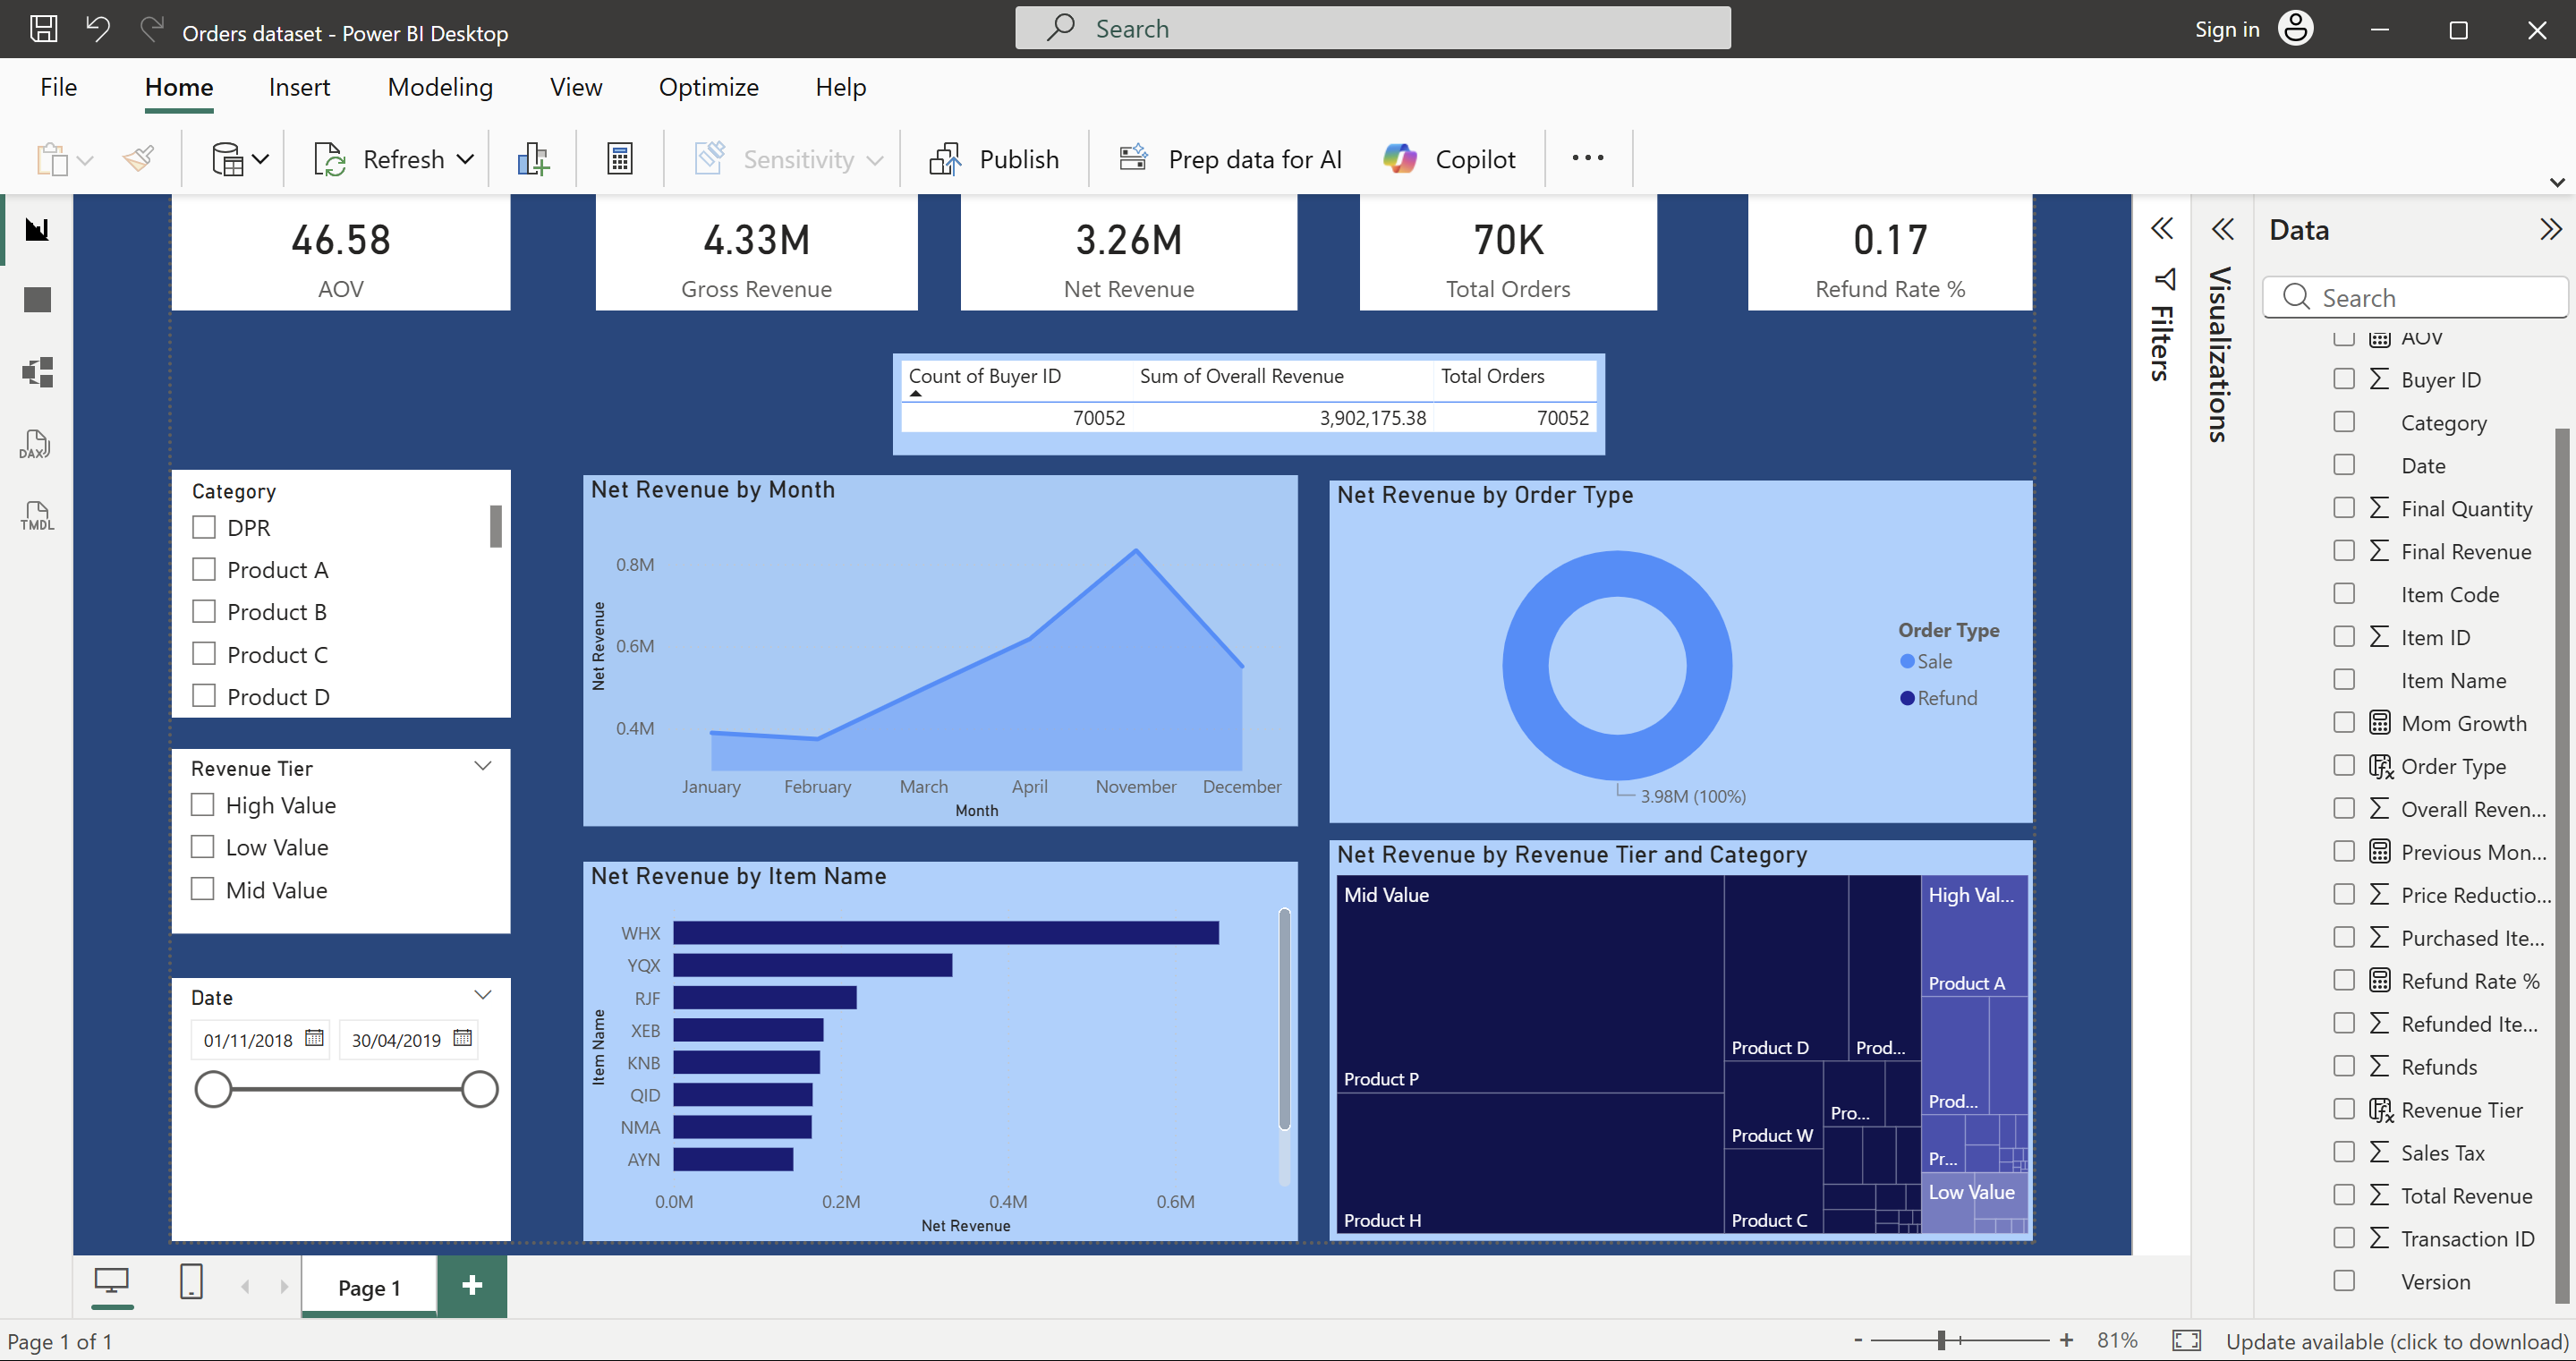

The page's visual inventory and layout, read from the dashboard file:
{"tool":"powerbi","page":{"name":"Page 1","canvas":[1280,720],"ordinal":0},"visuals":[{"type":"card","fields":{"Values":["Calender.Gross Revenue"]},"box":[291.4,0,221.4,80],"z":0},{"type":"card","fields":{"Values":["Calender.Net Revenue"]},"box":[542.9,0,231.4,80],"z":1},{"type":"card","fields":{"Values":["Calender.Total Orders"]},"box":[817.1,0,204.3,80],"z":2},{"type":"treemap","fields":{"Group":["order_dataset.Revenue Tier"],"Details":["order_dataset.Category"],"Values":["Calender.Net Revenue"]},"box":[795.7,444.3,485.7,275.7],"z":4},{"type":"donutChart","fields":{"Category":["order_dataset.Order Type","order_dataset.Category"],"Y":["Calender.Net Revenue"]},"box":[795.7,197.1,484.3,235.7],"z":5},{"type":"card","fields":{"Values":["order_dataset.Refund Rate %"]},"box":[1084.3,0,195.7,80],"z":6},{"type":"card","fields":{"Values":["order_dataset.AOV"]},"box":[0,0,232.9,80],"z":9},{"type":"slicer","fields":{"Values":["order_dataset.Category"]},"box":[0,190,232.9,170],"z":10},{"type":"slicer","fields":{"Values":["order_dataset.Revenue Tier"]},"box":[0,381.4,232.9,127.1],"z":11},{"type":"slicer","fields":{"Values":["order_dataset.Date"]},"box":[0,538.6,232.9,181.4],"z":12},{"type":"areaChart","fields":{"Category":["Calender.Date.Variation.Date Hierarchy.Month"],"Y":["Calender.Net Revenue"]},"box":[282.9,192.9,491.4,241.4],"z":13},{"type":"clusteredBarChart","fields":{"Y":["Calender.Net Revenue"],"Category":["order_dataset.Item Name"]},"box":[282.9,458.6,491.4,261.4],"z":14},{"type":"tableEx","fields":{"Values":["CountNonNull(order_dataset.Buyer ID)","Sum(order_dataset.Overall Revenue)","Calender.Total Orders"]},"box":[495.7,110,490,70],"z":15}]}

Visuals, with their boxes on the page's 1280x720 design canvas (x1, y1, x2, y2). These are canvas units, not pixel positions in the 2576x1361 screenshot, which may show the page scaled, cropped or inside an application window:
card - Calender.Gross Revenue: {"left": 291, "top": 0, "right": 513, "bottom": 80}
card - Calender.Net Revenue: {"left": 543, "top": 0, "right": 774, "bottom": 80}
card - Calender.Total Orders: {"left": 817, "top": 0, "right": 1021, "bottom": 80}
treemap - order_dataset.Revenue Tier x order_dataset.Category: {"left": 796, "top": 444, "right": 1281, "bottom": 720}
donutChart - order_dataset.Order Type x order_dataset.Category: {"left": 796, "top": 197, "right": 1280, "bottom": 433}
card - order_dataset.Refund Rate %: {"left": 1084, "top": 0, "right": 1280, "bottom": 80}
card - order_dataset.AOV: {"left": 0, "top": 0, "right": 233, "bottom": 80}
slicer - order_dataset.Category: {"left": 0, "top": 190, "right": 233, "bottom": 360}
slicer - order_dataset.Revenue Tier: {"left": 0, "top": 381, "right": 233, "bottom": 508}
slicer - order_dataset.Date: {"left": 0, "top": 539, "right": 233, "bottom": 720}
areaChart - Calender.Date.Variation.Date Hierarchy.Month x Calender.Net Revenue: {"left": 283, "top": 193, "right": 774, "bottom": 434}
clusteredBarChart - Calender.Net Revenue x order_dataset.Item Name: {"left": 283, "top": 459, "right": 774, "bottom": 720}
tableEx - CountNonNull(order_dataset.Buyer ID) x Sum(order_dataset.Overall Revenue): {"left": 496, "top": 110, "right": 986, "bottom": 180}
